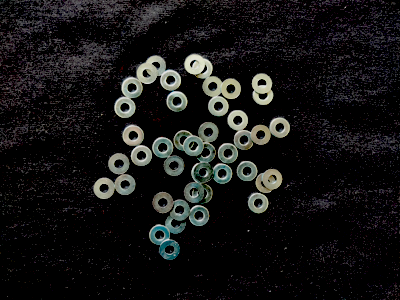circle: (93, 178, 115, 201), (114, 97, 137, 119), (160, 70, 182, 92), (114, 175, 136, 196), (131, 146, 153, 167), (184, 182, 205, 204), (192, 184, 214, 205), (234, 130, 256, 151), (167, 91, 188, 113), (109, 154, 130, 175), (160, 240, 181, 261), (150, 225, 171, 246), (153, 193, 174, 214), (166, 214, 187, 235), (164, 156, 185, 177), (123, 126, 144, 147), (122, 78, 143, 99), (237, 161, 258, 182), (251, 125, 272, 146), (228, 110, 249, 131), (209, 97, 230, 118), (199, 122, 220, 143), (193, 59, 214, 80), (185, 54, 206, 75), (146, 56, 167, 77), (137, 63, 158, 84), (170, 200, 190, 222), (188, 207, 210, 227), (249, 193, 269, 215), (253, 86, 275, 106), (153, 138, 174, 158), (174, 131, 195, 151), (184, 136, 205, 156), (191, 164, 212, 184), (218, 144, 239, 164), (271, 118, 291, 139), (222, 79, 242, 100), (252, 74, 273, 94), (263, 169, 283, 189), (256, 173, 276, 193), (196, 143, 216, 163), (194, 163, 214, 183), (213, 164, 233, 184), (203, 77, 223, 97)
